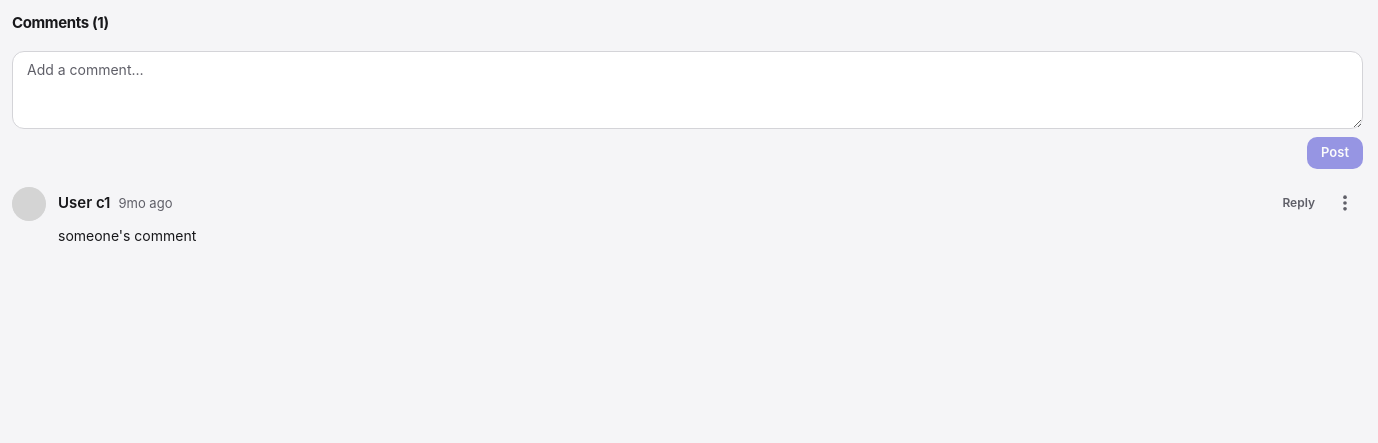
Scenario: CommentsSection creator pin + heart › does NOT offer creator actions when the viewer cannot manage comments
Click the button named "Comment actions". click: coordinates (1345, 202)
box: [1327,184,1363,220]
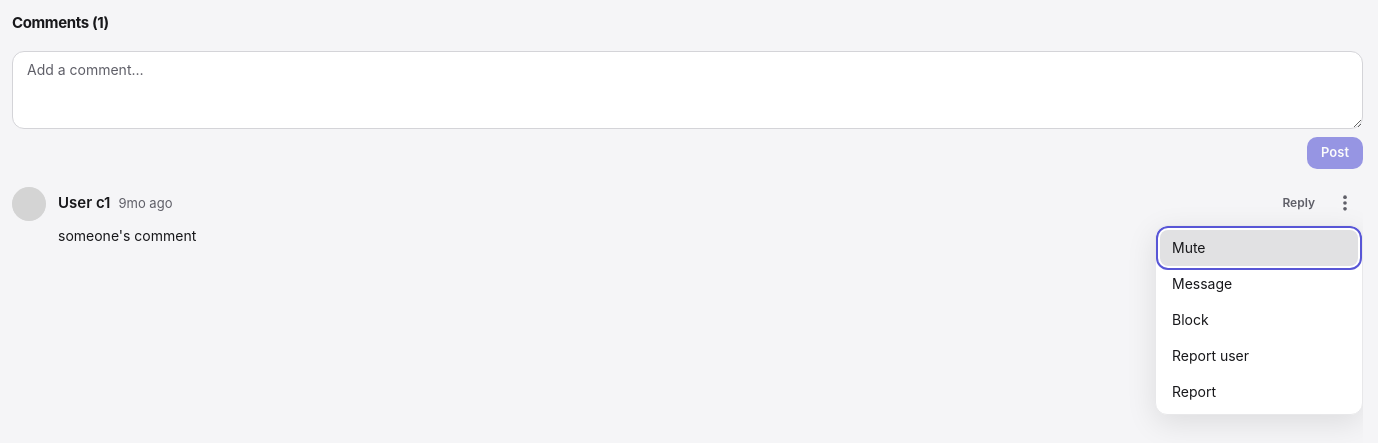
Check: the menu item "Report" is shown, box [1160,374,1358,410]
